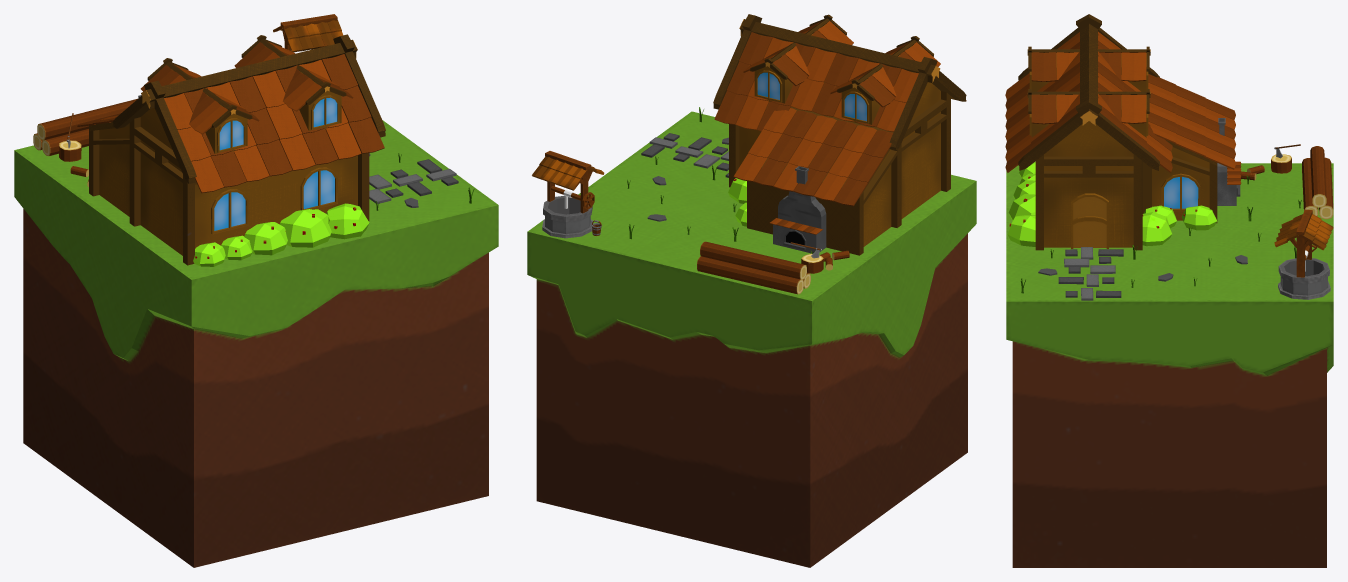
The model's file is Concepts_12.fbx.
The picture shows the model from 3 angles, left to right: view 1: azimuth 30°, elevation 25°; view 2: azimuth 150°, elevation 25°; view 3: azimuth 270°, elevation 25°; orthographic projection. The views are drawn at different scales.
Visible parts, largest first — view 1: Cube.142, Cube.016, Cube.153, Cube.145, Cube.143, Cube.147; view 2: Cube.142, Cube.016, Cube.143, Cube.145, Cube.151, Cube.147, Cube.150, Cube.152; view 3: Cube.142, Cube.016, Cube.143, Cube.147, Cube.145, Cube.152, Cube.153, Cube.151, Cube.150.
Boxes of the visible parts, x1,y1,x2,y2 form: Cube.142: (14, 120, 498, 567); Cube.016: (77, 34, 385, 265); Cube.153: (193, 203, 369, 266); Cube.145: (33, 98, 137, 155); Cube.143: (273, 14, 342, 52); Cube.147: (369, 159, 458, 203); Cube.142: (527, 111, 976, 567); Cube.016: (713, 14, 966, 255); Cube.143: (532, 151, 604, 238); Cube.145: (697, 241, 810, 294); Cube.151: (769, 166, 826, 253); Cube.147: (641, 133, 728, 177); Cube.150: (627, 107, 814, 253); Cube.152: (728, 178, 746, 226); Cube.142: (1006, 163, 1333, 567); Cube.016: (1005, 14, 1235, 250); Cube.143: (1274, 209, 1333, 299); Cube.147: (1058, 247, 1123, 300); Cube.145: (1302, 146, 1333, 219); Cube.152: (1142, 205, 1216, 246); Cube.153: (1007, 161, 1035, 246); Cube.151: (1217, 118, 1241, 205); Cube.150: (1020, 175, 1301, 293).
Size of the model in its own units: 303 by 427 by 302.
